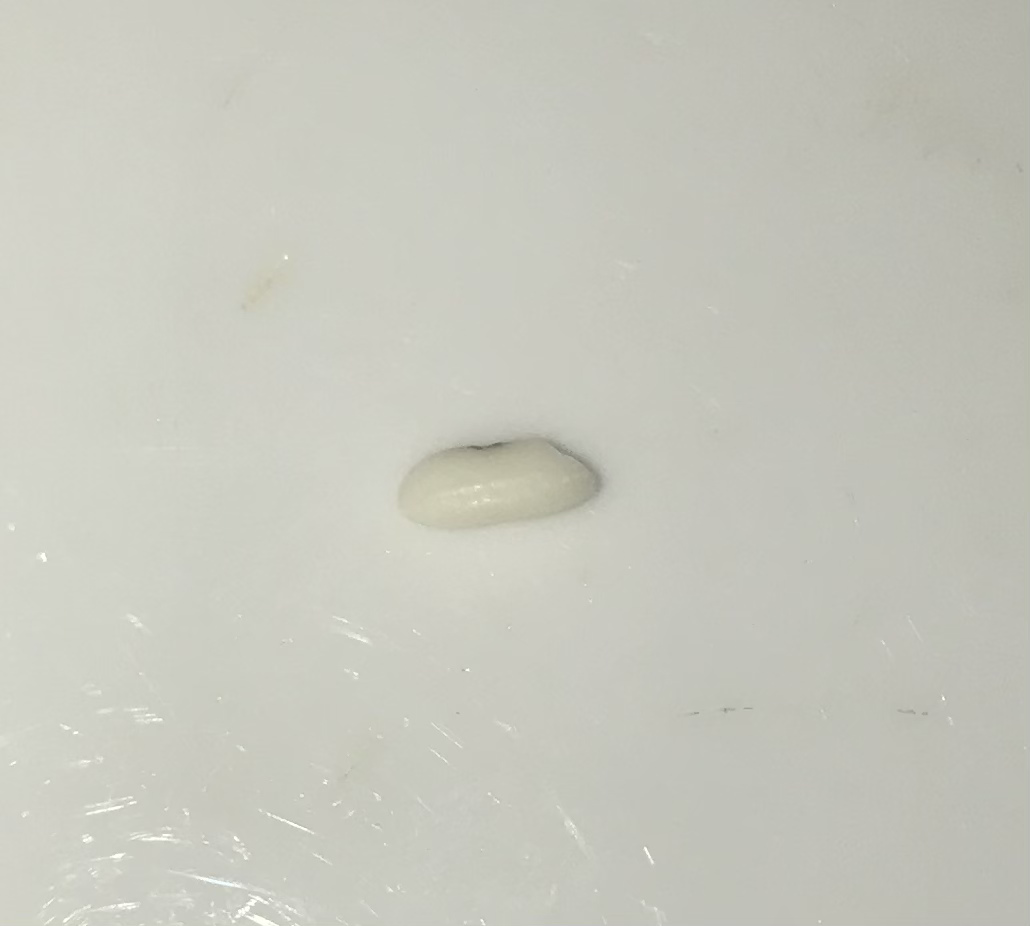Gao Nep Sap: (404, 428, 601, 528)
